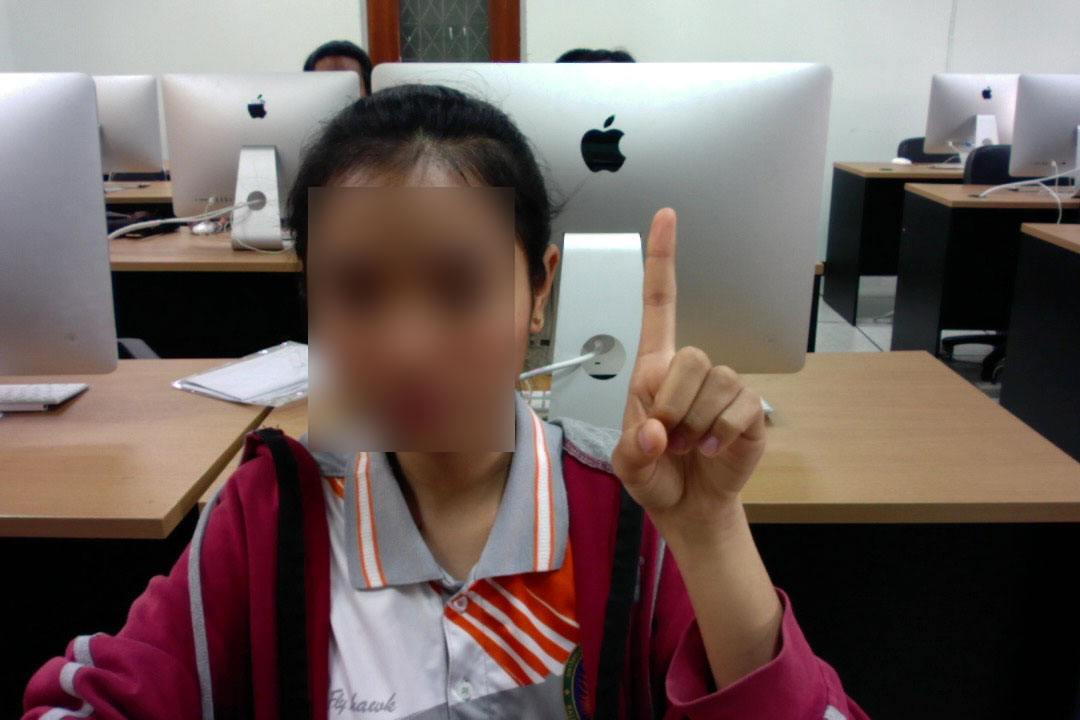dor: (606, 197, 770, 536)
